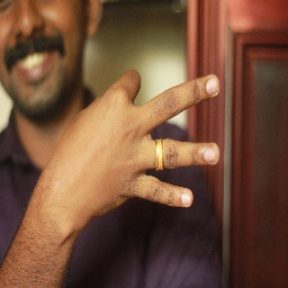K: (46, 70, 225, 213)
